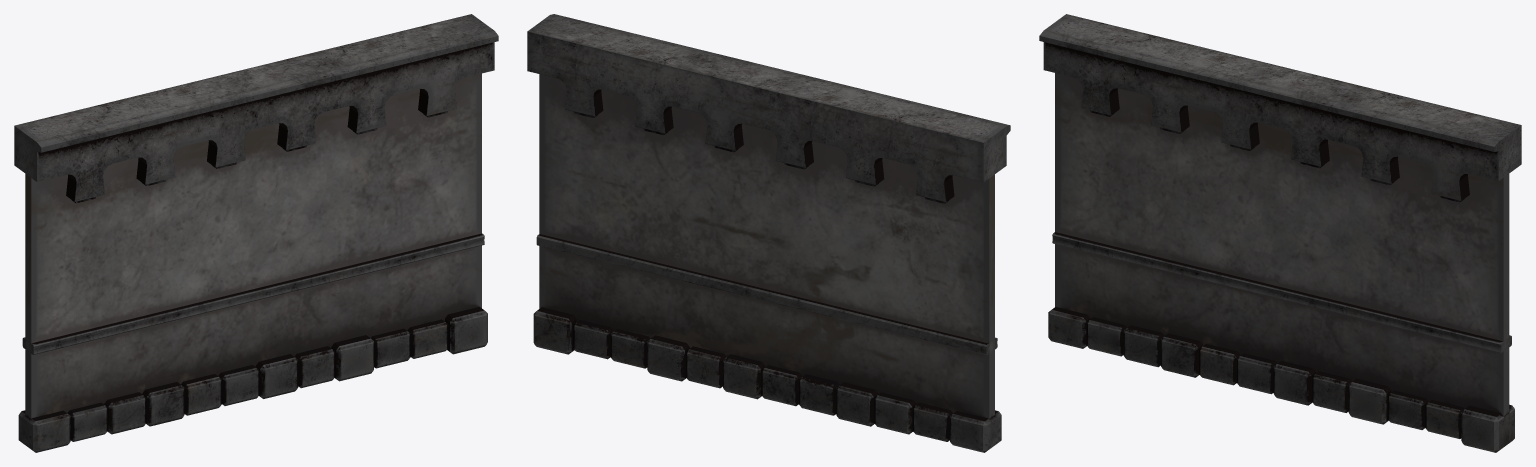
Rendered from SM_Wall_Plane.fbx.
The picture shows the model from 3 angles, left to right: view 1: azimuth 30°, elevation 25°; view 2: azimuth 150°, elevation 25°; view 3: azimuth 330°, elevation 25°; orthographic projection.
Parts seen in each view (by area): view 1: SM_Wall_Plane; view 2: SM_Wall_Plane; view 3: SM_Wall_Plane.
Boxes of the visible parts, x1,y1,x2,y2 form: SM_Wall_Plane: (14, 14, 498, 452); SM_Wall_Plane: (527, 14, 1010, 452); SM_Wall_Plane: (1039, 14, 1521, 452).
Bounding box in the file's own units: 913 × 605 × 93.3.
